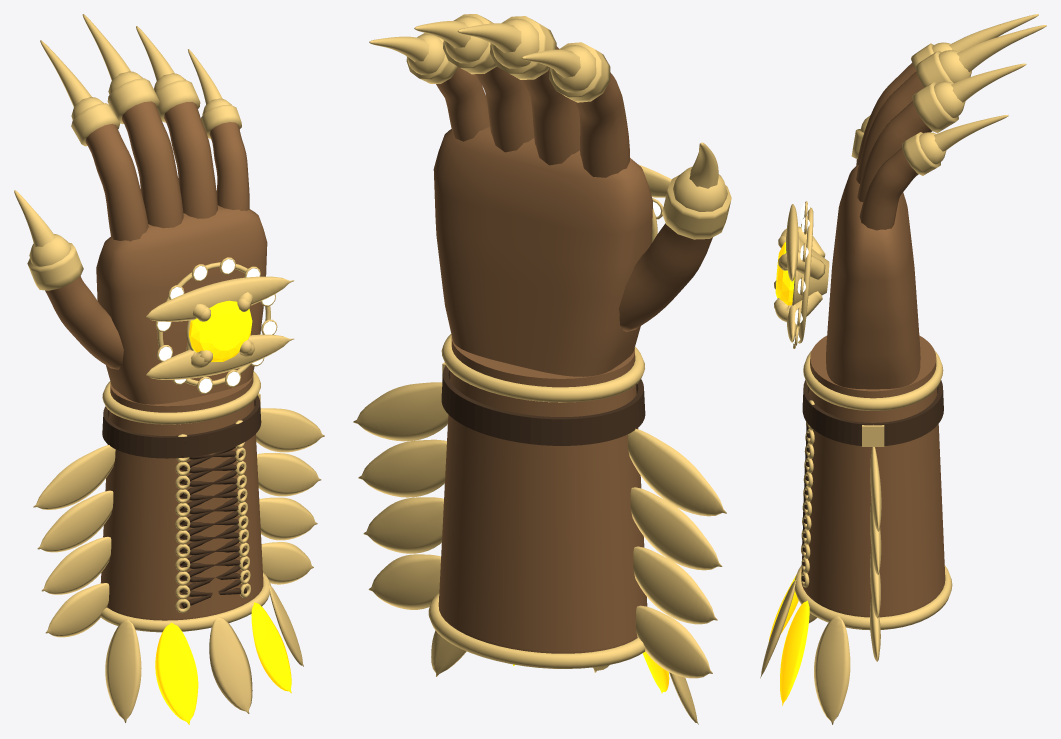
The model's file is gloves_crit_legendary.glb.
3 views of the same model, side by side, from view 1: azimuth 30°, elevation 25°; view 2: azimuth 150°, elevation 25°; view 3: azimuth 270°, elevation 25° (orthographic). The views are drawn at different scales.
Parts seen in each view (by area): view 1: gloves_crit_legendary; view 2: gloves_crit_legendary; view 3: gloves_crit_legendary.
Boxes of the visible parts, x1,y1,x2,y2 form: gloves_crit_legendary: [14, 14, 324, 724]; gloves_crit_legendary: [353, 14, 731, 724]; gloves_crit_legendary: [760, 14, 1046, 724].
Bounding box in the file's own units: 1.8 × 3.58 × 1.45.
